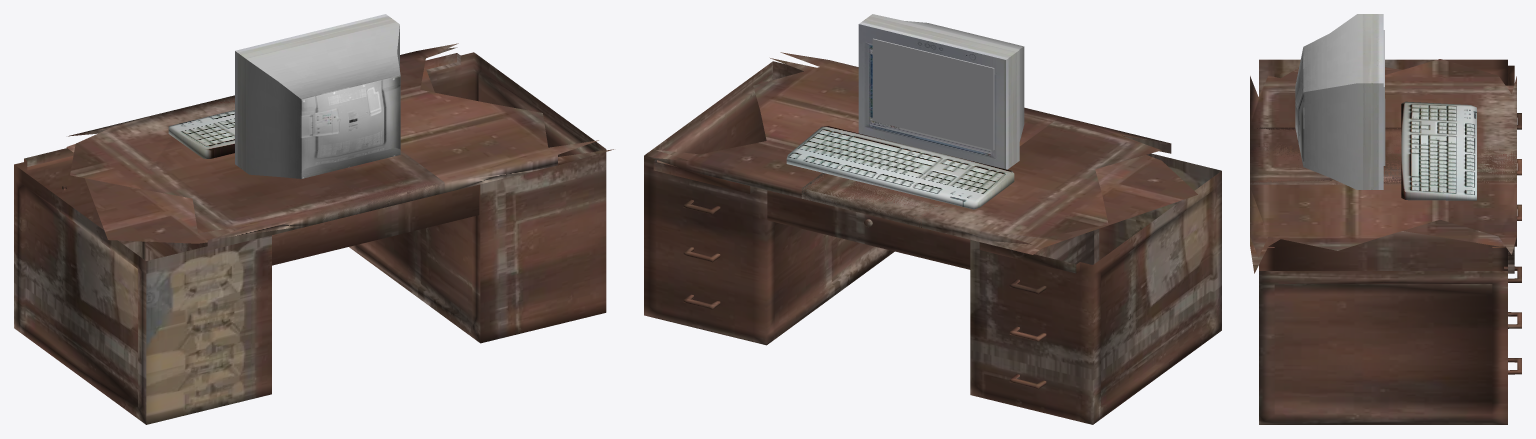
File: Computer_Desk.glb
3 views of the same model, side by side, from view 1: azimuth 30°, elevation 25°; view 2: azimuth 150°, elevation 25°; view 3: azimuth 270°, elevation 25° (orthographic). The views are drawn at different scales.
Visible parts, largest first — view 1: Computer_Desk; view 2: Computer_Desk; view 3: Computer_Desk.
Part boxes in pixels (x1,y1,x2,y2): Computer_Desk: (14,14,613,424); Computer_Desk: (644,14,1221,424); Computer_Desk: (1250,14,1521,424).
Bounding box in the file's own units: 21.61 × 12.54 × 11.4.
Materials: 4 (3 with a texture image).
